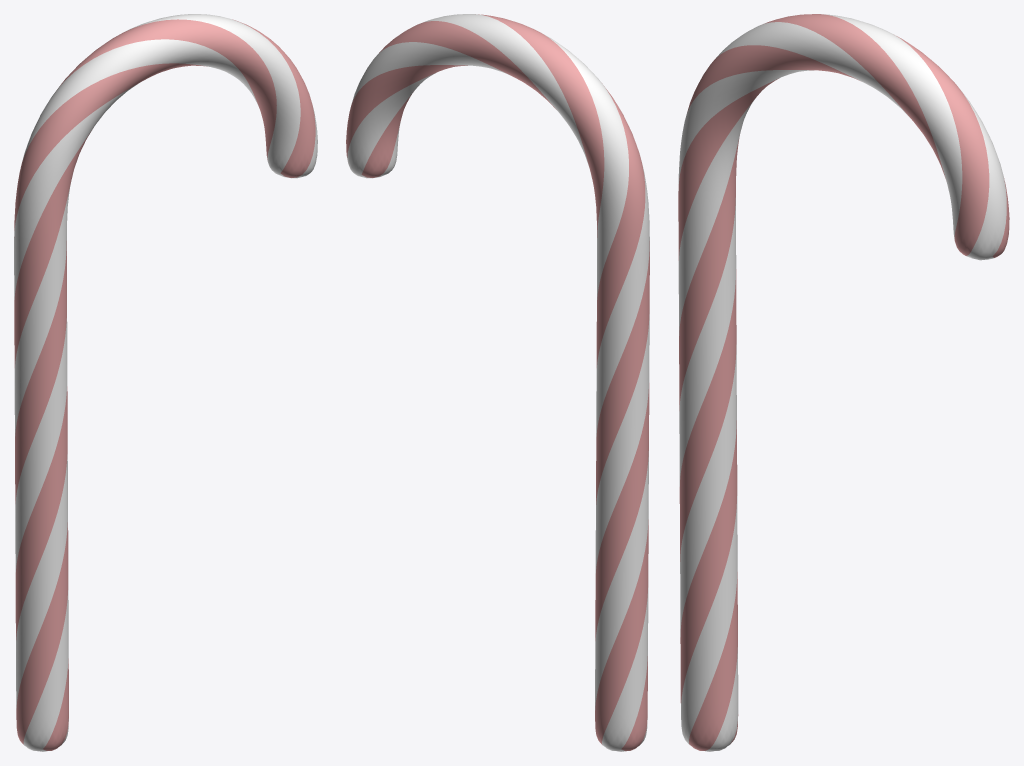
The model's file is redcandycane.gltf.
The picture shows the model from 3 angles, left to right: view 1: azimuth 30°, elevation 25°; view 2: azimuth 150°, elevation 25°; view 3: azimuth 330°, elevation 25°; orthographic projection. The views are drawn at different scales.
Parts seen in each view (by area): view 1: Circle.001; view 2: Circle.001; view 3: Circle.001.
Boxes of the visible parts, <box> form: Circle.001: <box>14,14,317,751</box>; Circle.001: <box>346,14,649,751</box>; Circle.001: <box>678,14,1009,751</box>.
Size of the model in its own units: 2.34 by 5.25 by 0.3596.
